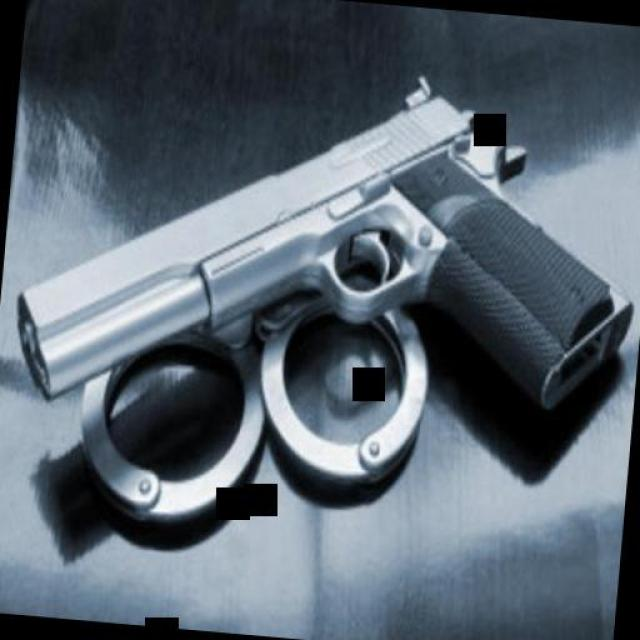gun: (19, 50, 629, 489)
